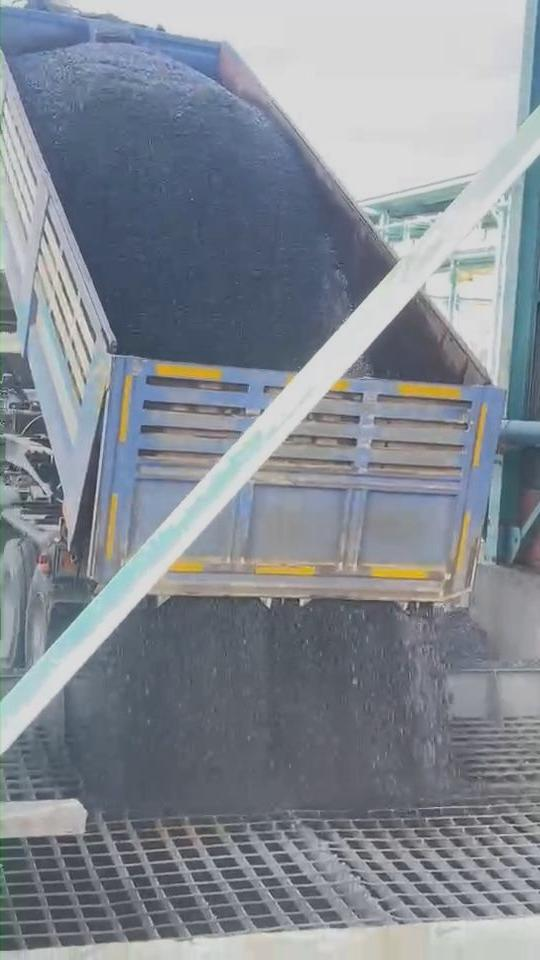gravel: (12, 44, 349, 369), (67, 598, 453, 815), (436, 610, 530, 671)
